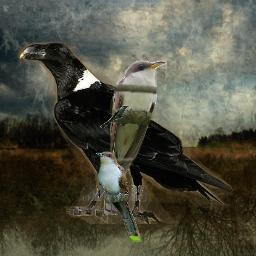Crow: (18, 42, 233, 224)
Cuckoo: (104, 60, 167, 215), (95, 151, 142, 242), (100, 105, 129, 128)
